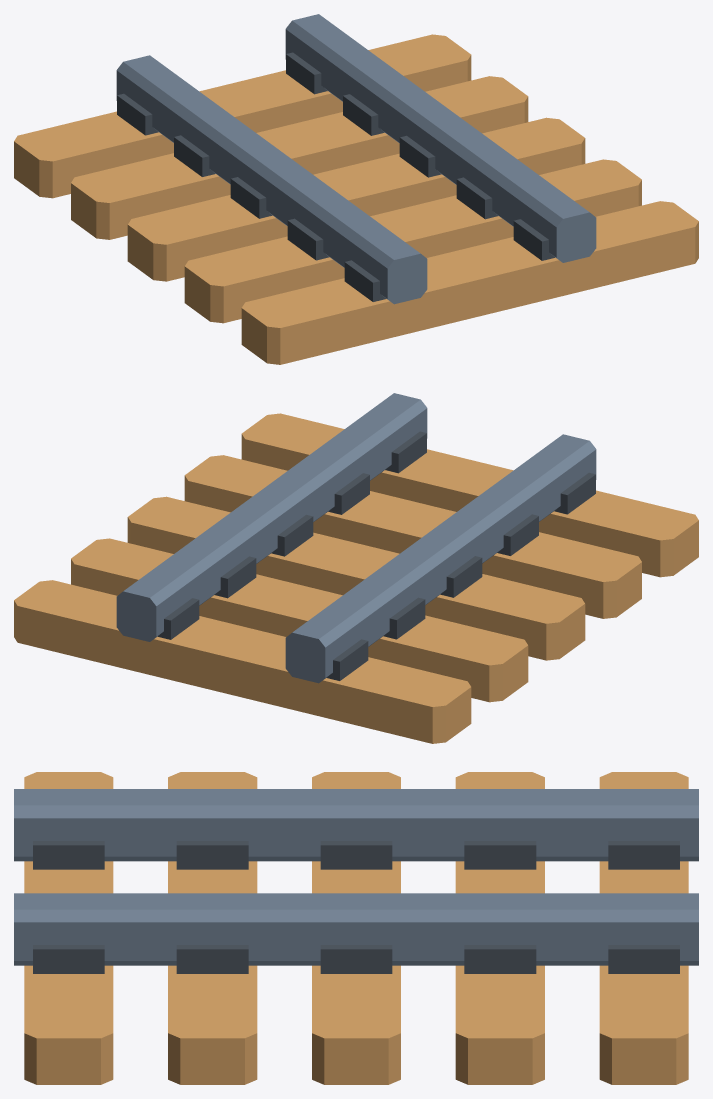
File: minecart_rail_straight.glb
3 views of the same model, one above another, from view 1: azimuth 30°, elevation 25°; view 2: azimuth 150°, elevation 25°; view 3: azimuth 270°, elevation 25° (orthographic). The views are drawn at different scales.
Visible parts, largest first — view 1: MinecartRailStraight; view 2: MinecartRailStraight; view 3: MinecartRailStraight.
Part boxes in pixels (x1=…): MinecartRailStraight: x1=14, y1=14, x2=698, y2=364; MinecartRailStraight: x1=14, y1=393, x2=698, y2=743; MinecartRailStraight: x1=14, y1=772, x2=698, y2=1084.
Bounding box in the file's own units: 0.92 × 0.165 × 1.
